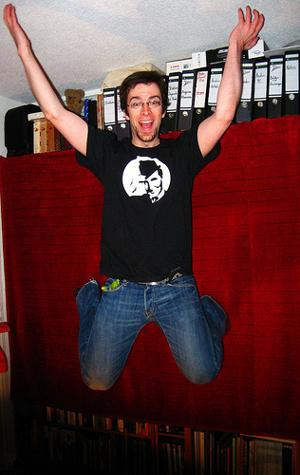person: (5, 1, 266, 390)
